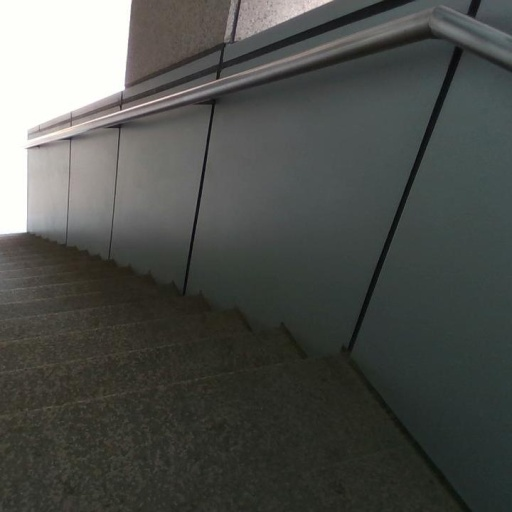Stairs: (0, 234, 468, 512)
